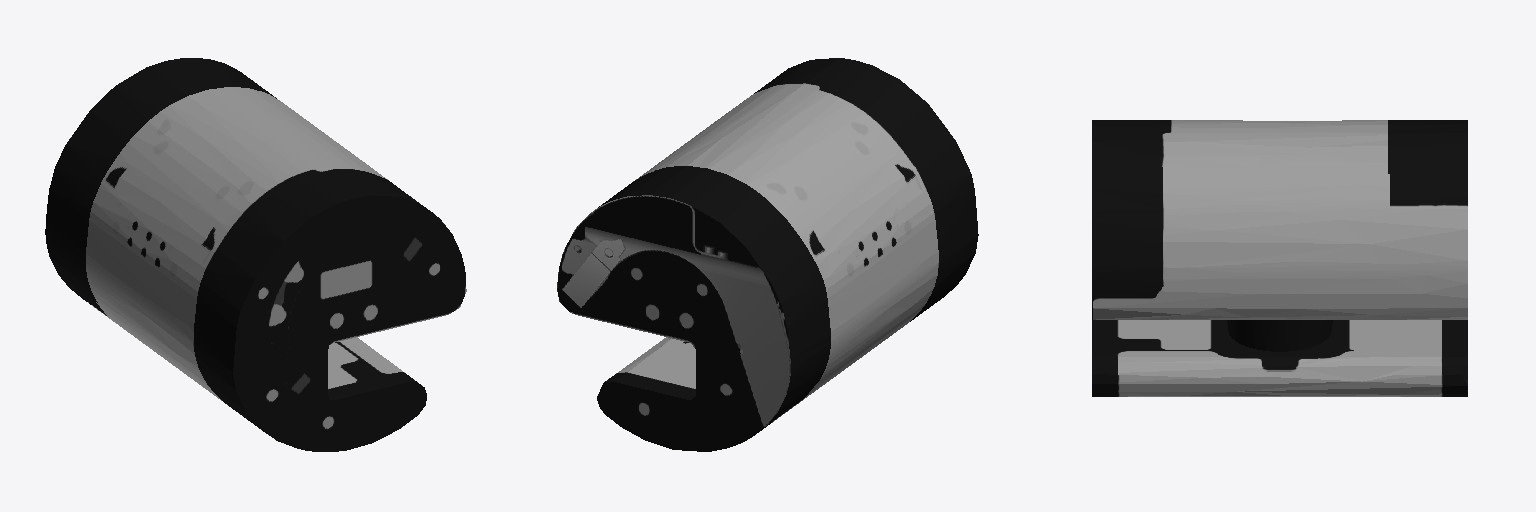
3 views of the same model, side by side, from view 1: azimuth 30°, elevation 25°; view 2: azimuth 150°, elevation 25°; view 3: azimuth 270°, elevation 25° (orthographic).
Parts seen in each view (by area): view 1: /ambf/env/pr2/laser_tilt_mount_link_/ambf/env/pr2/laser_tilt_mou; view 2: /ambf/env/pr2/laser_tilt_mount_link_/ambf/env/pr2/laser_tilt_mou; view 3: /ambf/env/pr2/laser_tilt_mount_link_/ambf/env/pr2/laser_tilt_mou.
Part boxes in pixels (x1,y1,x2,y2): /ambf/env/pr2/laser_tilt_mount_link_/ambf/env/pr2/laser_tilt_mou: (45,58,466,451); /ambf/env/pr2/laser_tilt_mount_link_/ambf/env/pr2/laser_tilt_mou: (557,58,978,451); /ambf/env/pr2/laser_tilt_mount_link_/ambf/env/pr2/laser_tilt_mou: (1092,120,1467,396).
Size of the model in its own units: 0.117 by 0.1202 by 0.163.
1 materials, 1 textured.